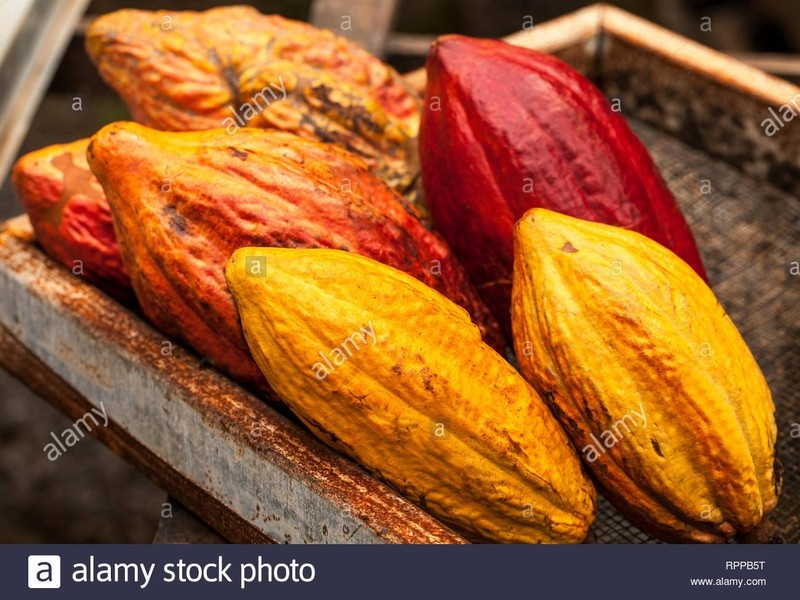Cacaopod: (225, 231, 601, 558), (85, 111, 485, 398), (391, 18, 721, 365), (505, 198, 791, 535)
